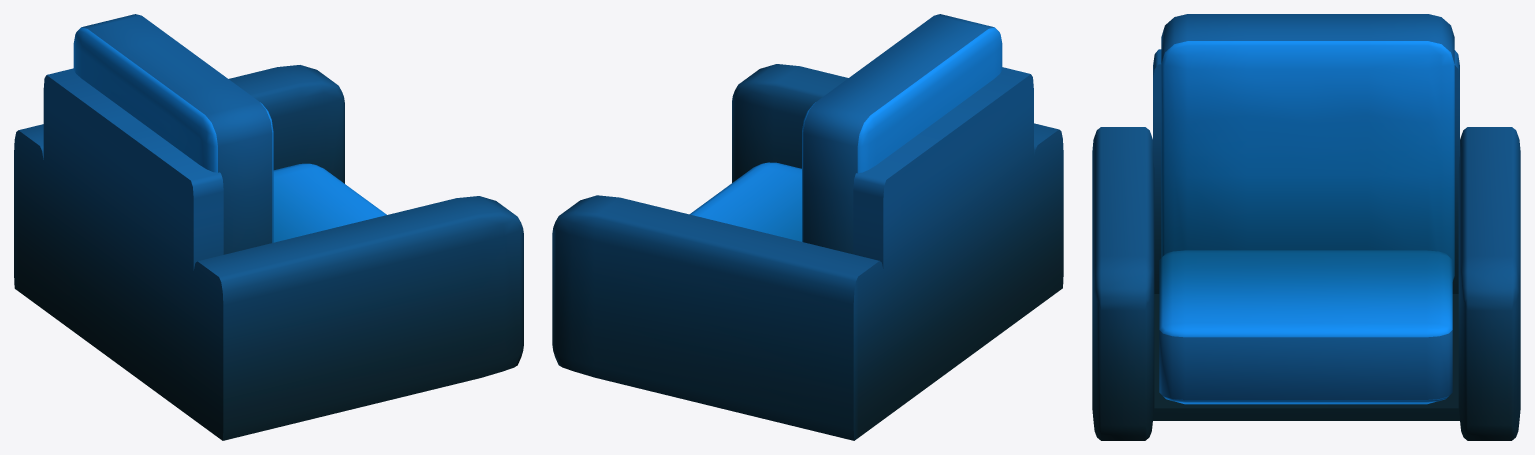
Rendered from Seat.fbx.
The picture shows the model from 3 angles, left to right: view 1: azimuth 30°, elevation 25°; view 2: azimuth 150°, elevation 25°; view 3: azimuth 270°, elevation 25°; orthographic projection. The views are drawn at different scales.
Parts seen in each view (by area): view 1: Cube.001; view 2: Cube.001; view 3: Cube.001.
Boxes of the visible parts, left/top/right/bottom form: Cube.001: left=14, top=14, right=523, bottom=440; Cube.001: left=552, top=14, right=1063, bottom=440; Cube.001: left=1092, top=14, right=1520, bottom=440.
Size of the model in its own units: 128 by 143 by 171.
